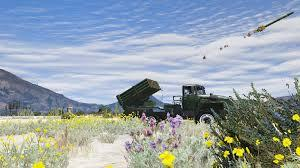MIL_SAM_TEL: (115, 78, 232, 125), (253, 10, 294, 30)
